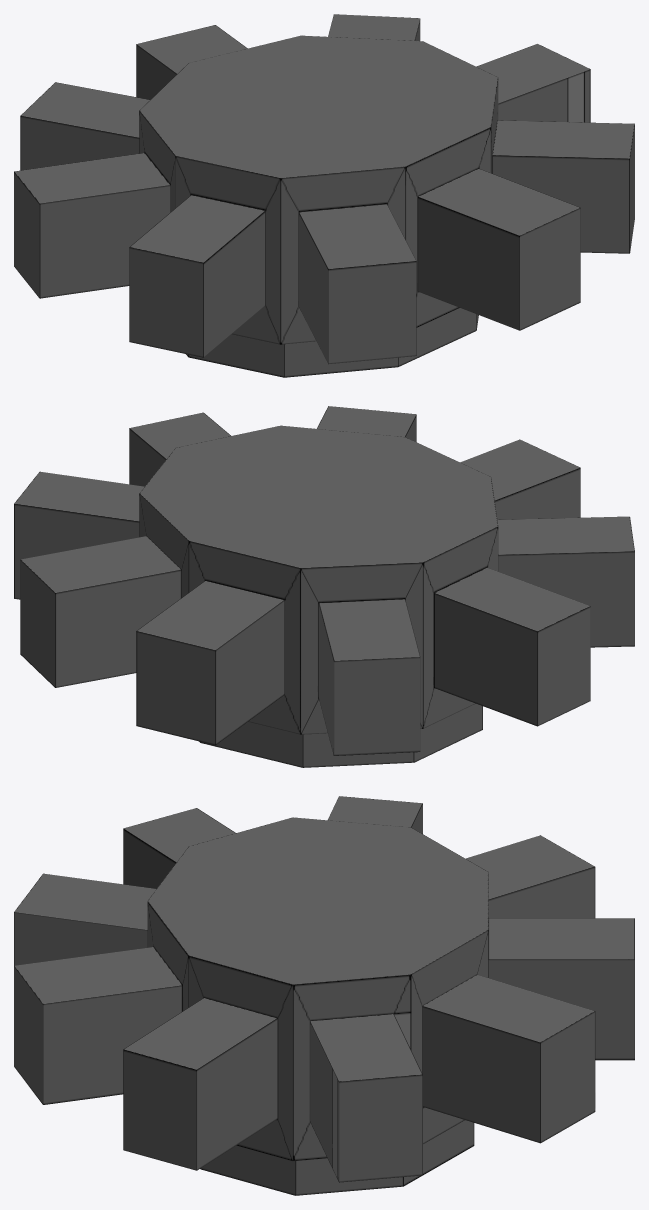
File: box_gear_bot.obj
3 renders of one model, top to bottom at view 1: azimuth 30°, elevation 25°; view 2: azimuth 150°, elevation 25°; view 3: azimuth 270°, elevation 25°, orthographic. The views are drawn at different scales.
Parts seen in each view (by area): view 1: Beam_to_gear_box_bot_Cylinder.007; view 2: Beam_to_gear_box_bot_Cylinder.007; view 3: Beam_to_gear_box_bot_Cylinder.007.
Boxes of the visible parts, x1=… form: Beam_to_gear_box_bot_Cylinder.007: x1=14, y1=14, x2=634, y2=377; Beam_to_gear_box_bot_Cylinder.007: x1=14, y1=406, x2=634, y2=767; Beam_to_gear_box_bot_Cylinder.007: x1=14, y1=796, x2=634, y2=1195.
Bounding box in the file's own units: 1.61 × 0.5759 × 1.48.
Materials: 1 (1 with a texture image).
